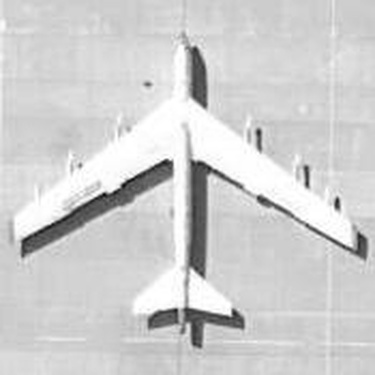airplane: (7, 28, 368, 346)
